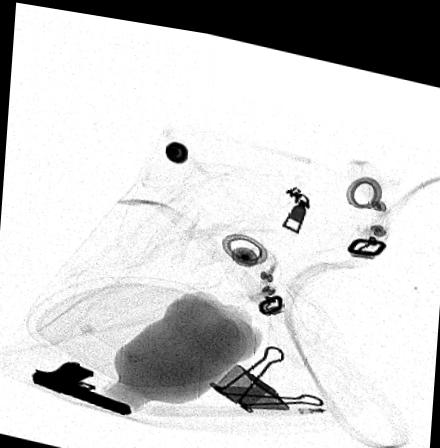Gun: (29, 356, 132, 411)
